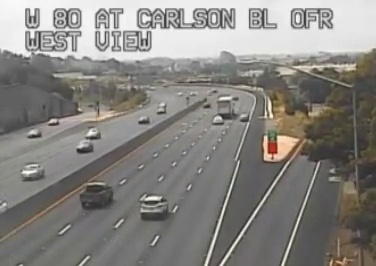car: (79, 182, 113, 205), (139, 195, 168, 215)
